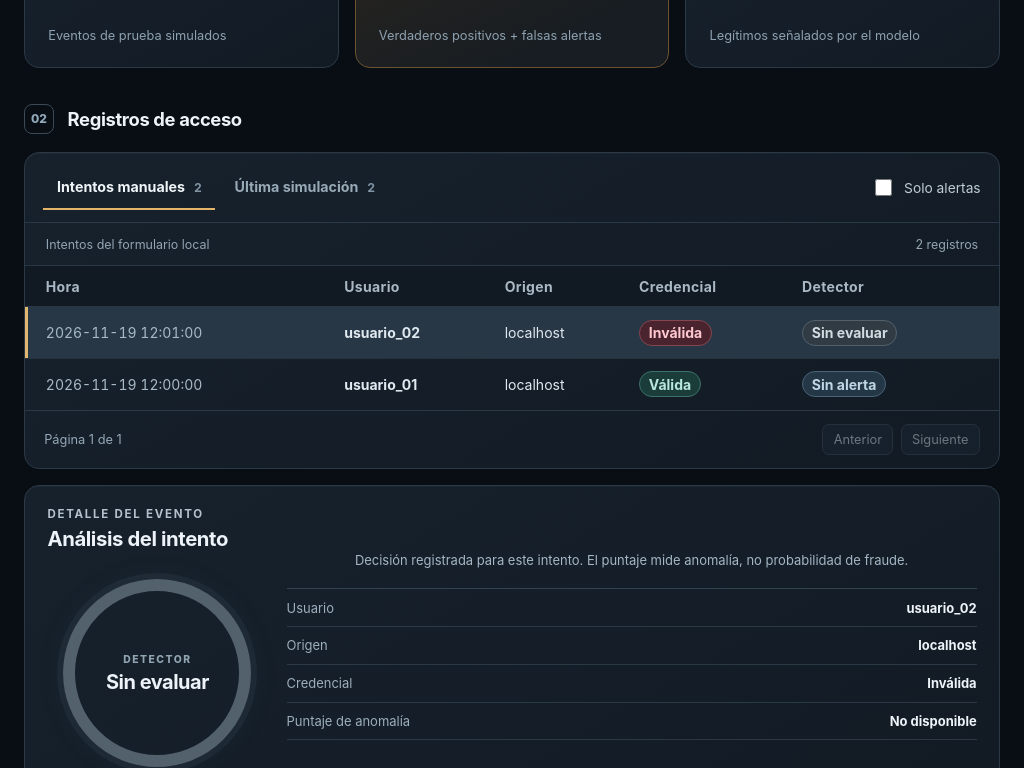
Test case: monitor de accesos › keeps credential and detector decisions separate, including unscored rows
(page scrolled)
Expected: the text "Sin evaluar" below "Análisis del intento" is shown, [106, 670, 209, 694]
Expected: the text "Inválida" in the row of "2026-11-19 12:01:00" is shown, [649, 324, 702, 341]
Click the row "2026-11-19 12:00:00 usuario_01 localhost Válida Sin alerta" at (512, 384), box [25, 359, 999, 410]
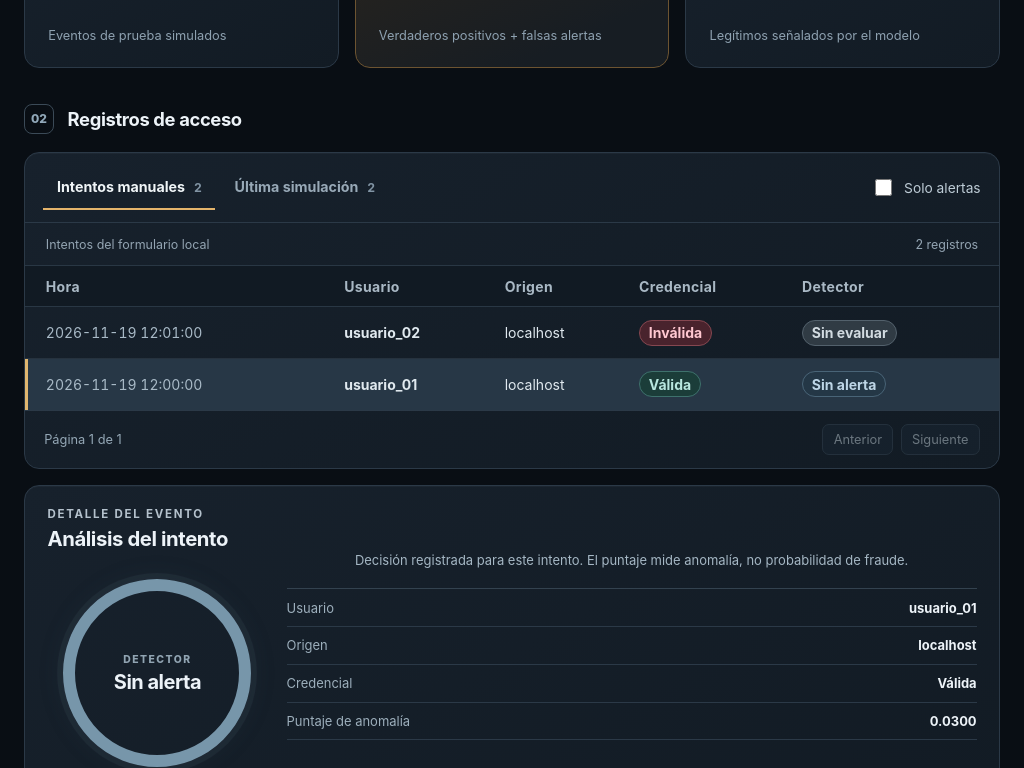
Result: the text "Sin alerta" below "Análisis del intento" is shown at [114, 670, 201, 694]
Result: the text "0.0300" is shown at [930, 713, 977, 729]
